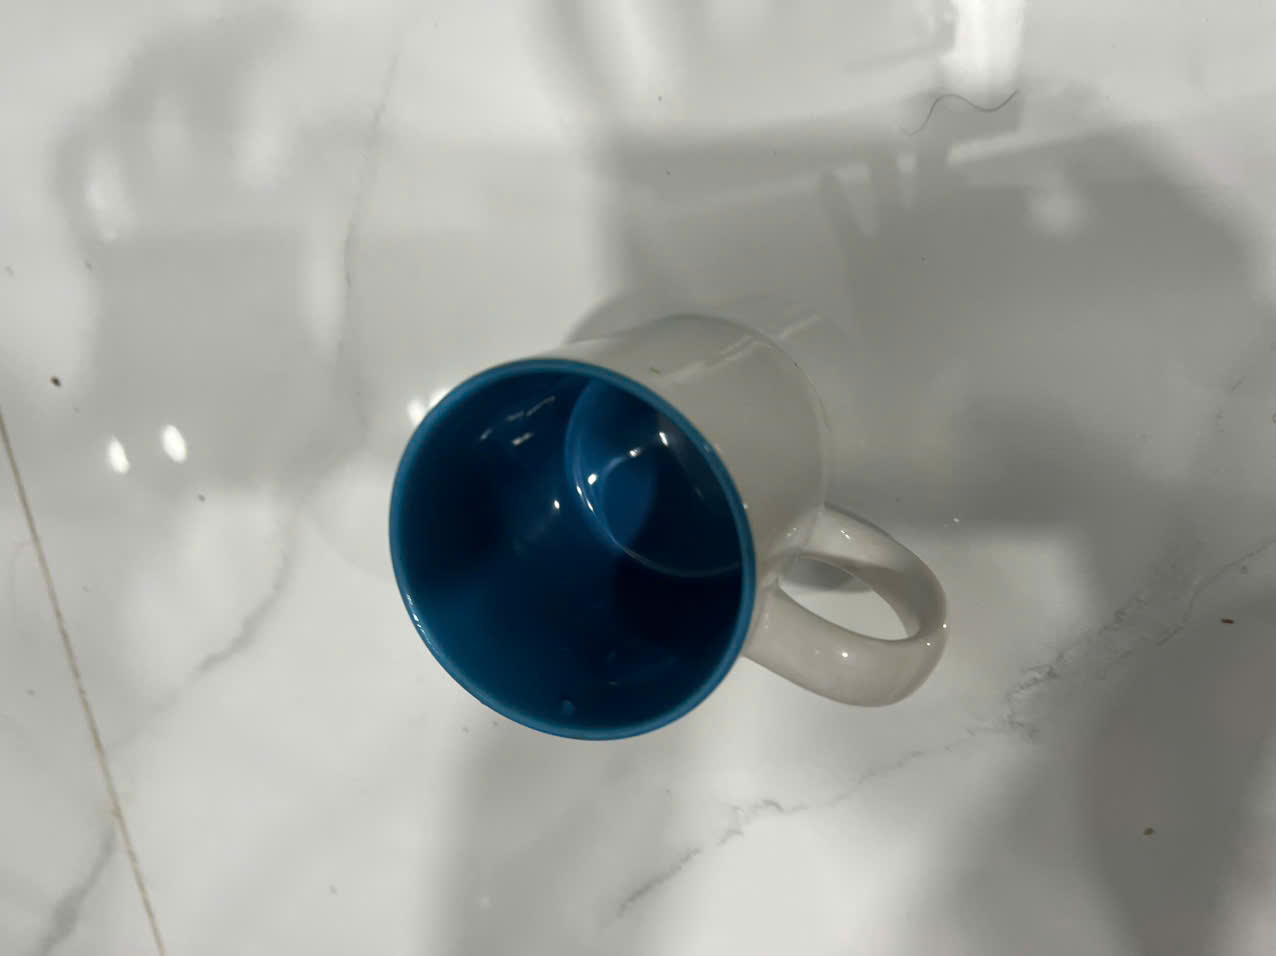ly coc: (409, 318, 957, 795)
